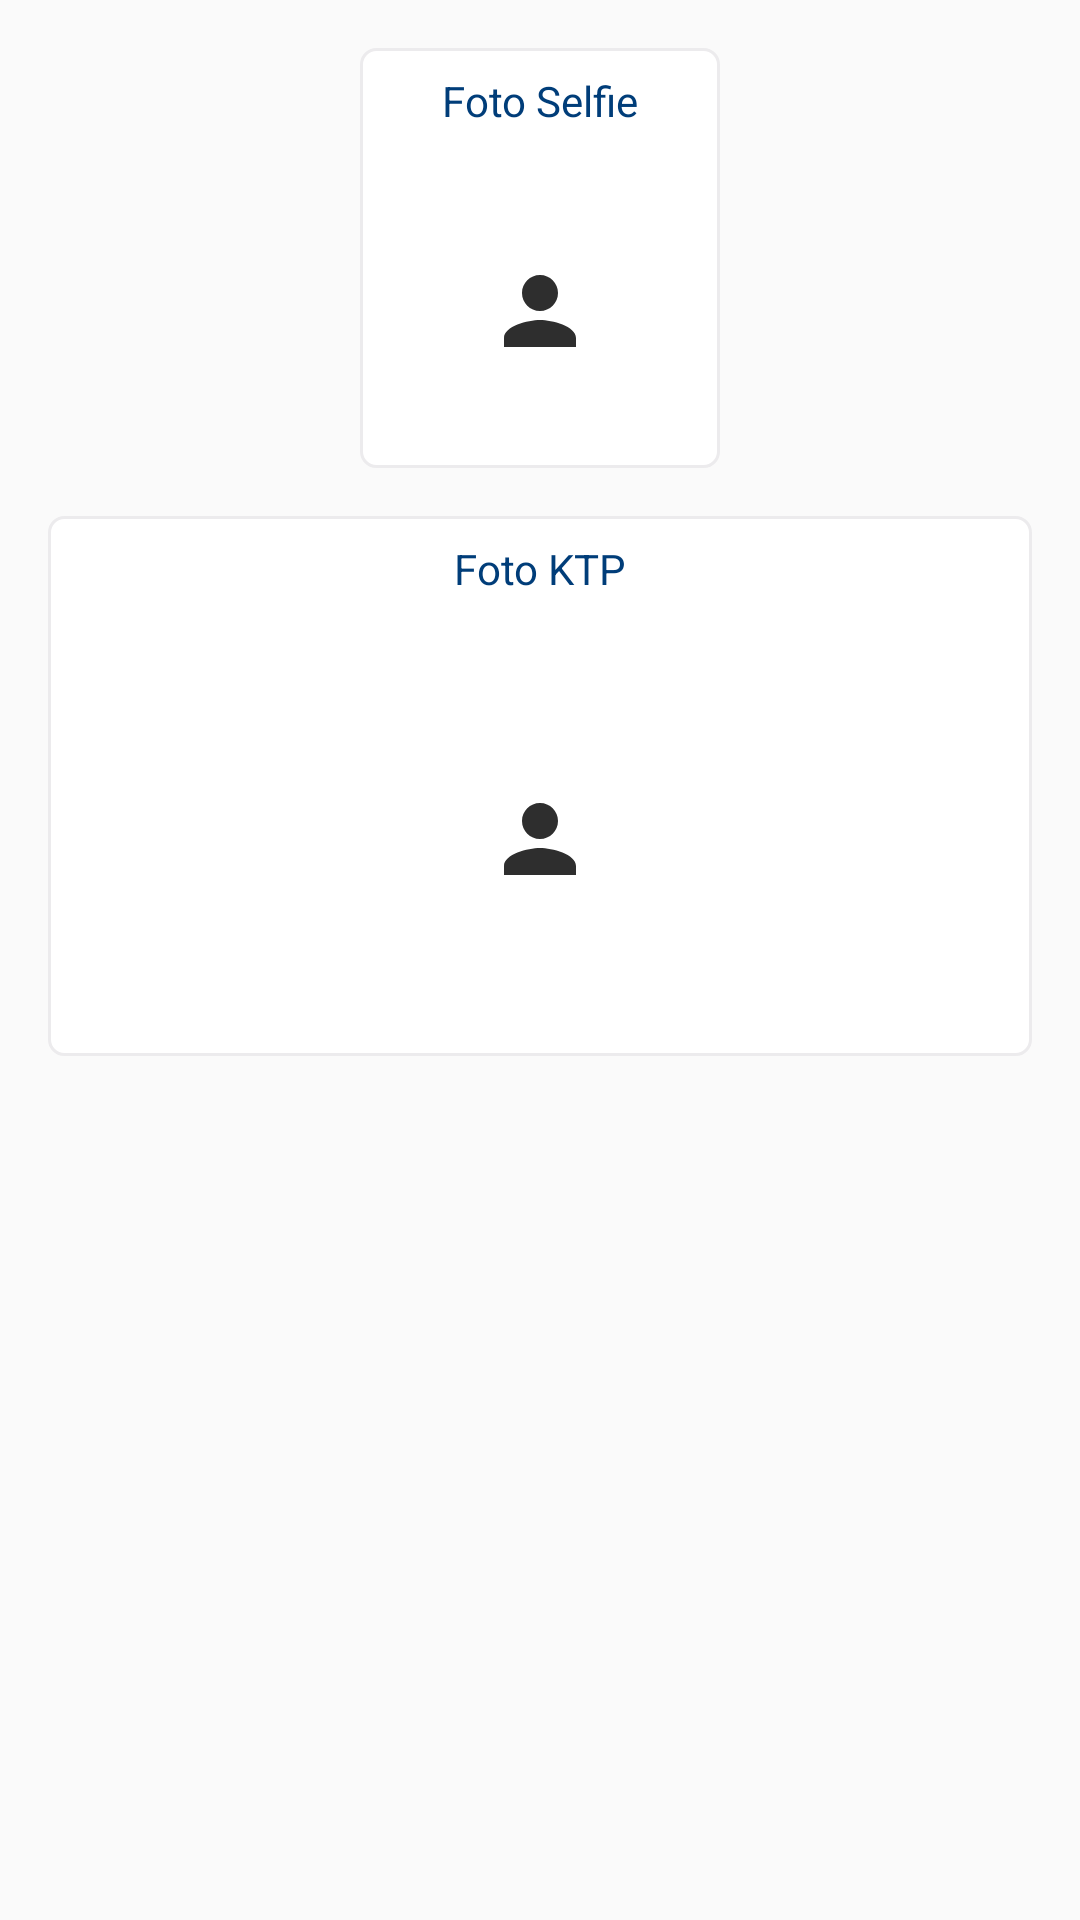

Icon click points for this 1080px x 1920px phone screenshot, format (x=x, y=y):
username: (x=540, y=311), (x=540, y=839)
